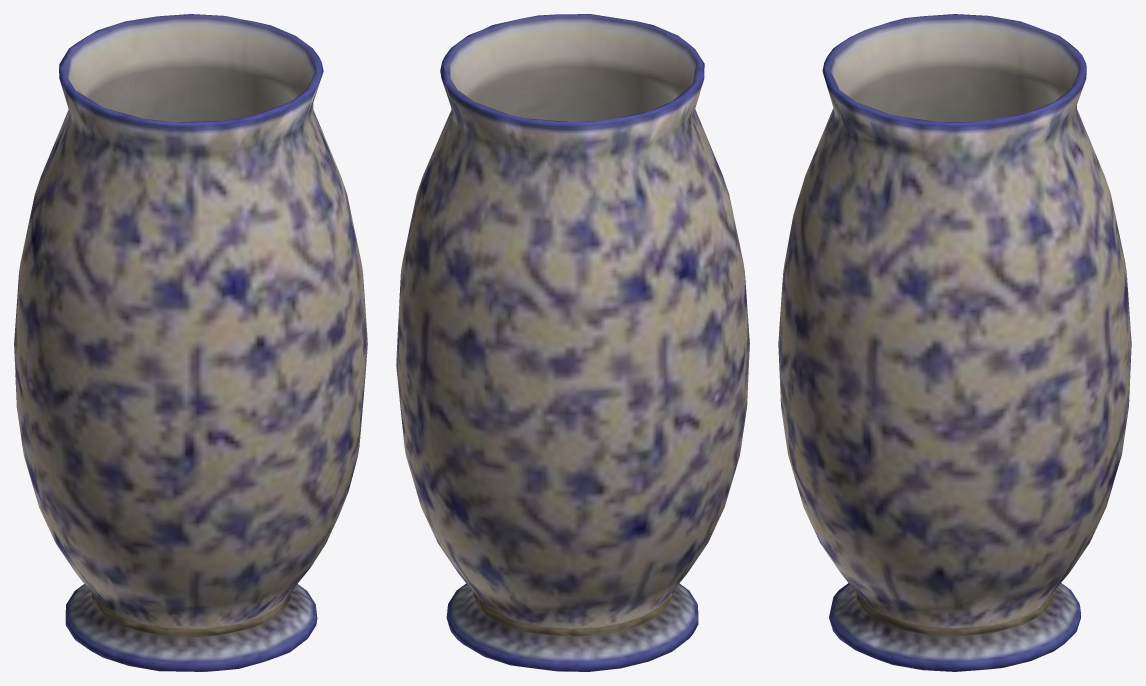
The model's file is antique_ceramic_vase_01.glb.
3 renders of one model, left to right at view 1: azimuth 30°, elevation 25°; view 2: azimuth 150°, elevation 25°; view 3: azimuth 270°, elevation 25°, orthographic.
Visible parts, largest first — view 1: antique_ceramic_vase_01; view 2: antique_ceramic_vase_01; view 3: antique_ceramic_vase_01.
Boxes of the visible parts, left/top/right/bottom form: antique_ceramic_vase_01: left=14, top=14, right=367, bottom=671; antique_ceramic_vase_01: left=396, top=14, right=749, bottom=671; antique_ceramic_vase_01: left=778, top=14, right=1131, bottom=671.
Bounding box in the file's own units: 0.255 × 0.4396 × 0.255.
Materials: 1 (1 with a texture image).
